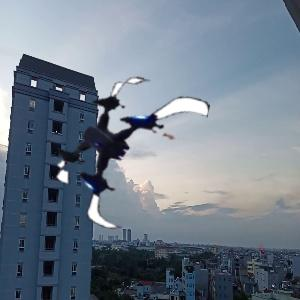drone: (39, 72, 201, 234)
